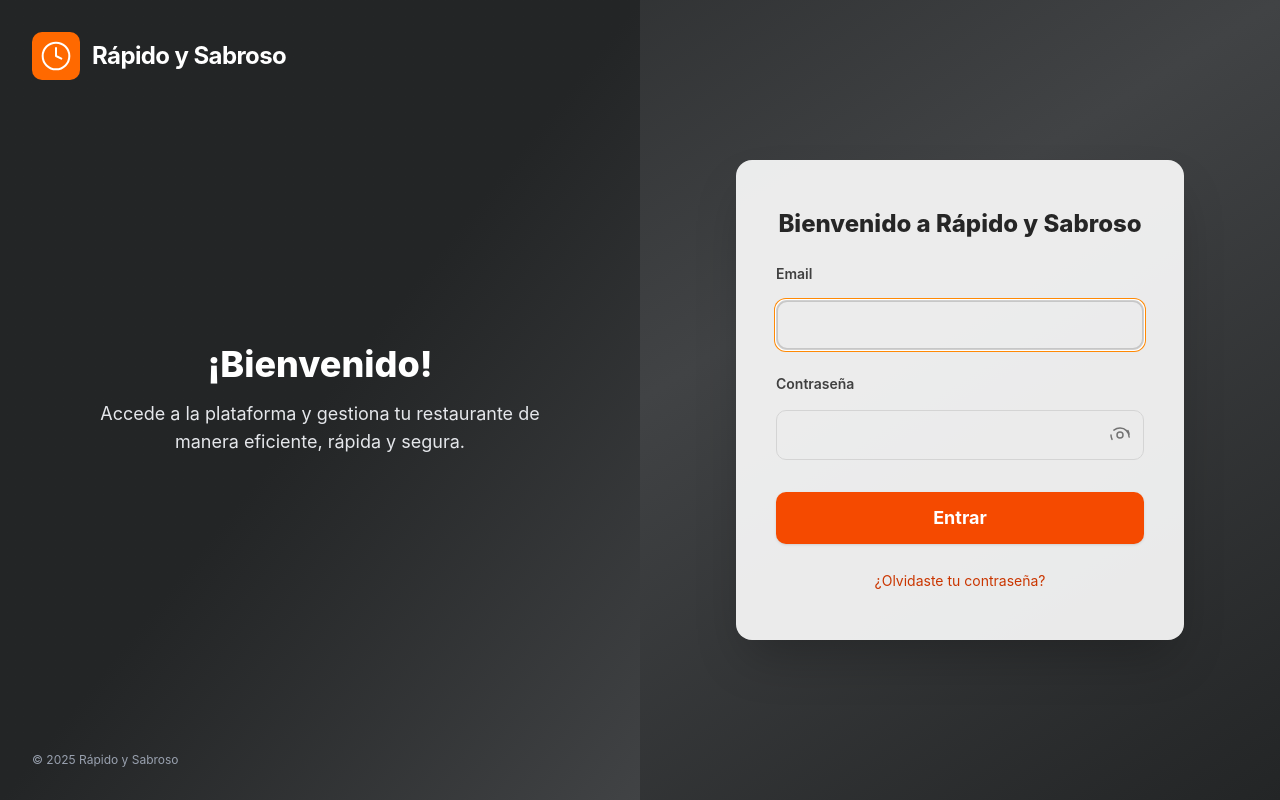
Login › shows error on invalid credentials
The width and height of the screenshot is (1280, 800).
Type "wrong@test.com" into the field labelled "Email" at x=960, y=325, box [776, 300, 1144, 350]
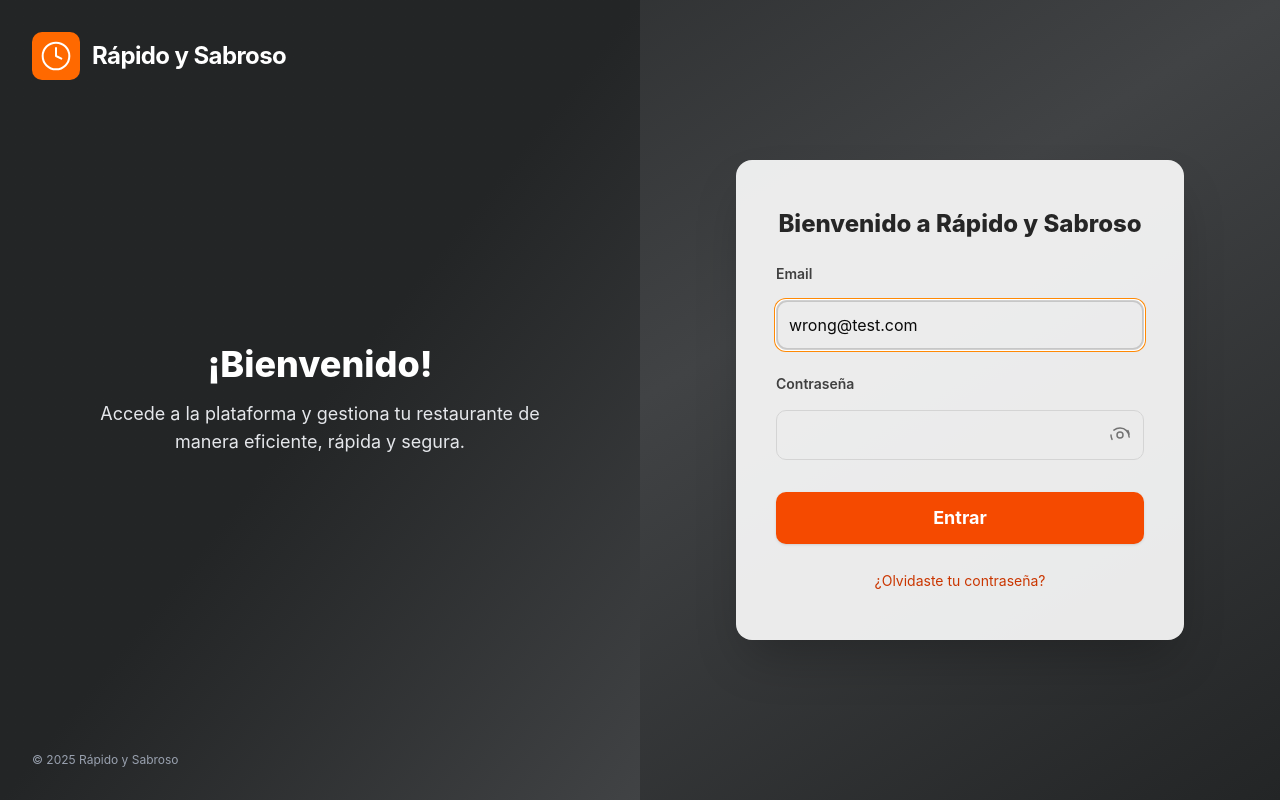
Type "wrongpass" into the password field labelled "Contraseña" at x=960, y=435, box [776, 410, 1144, 460]
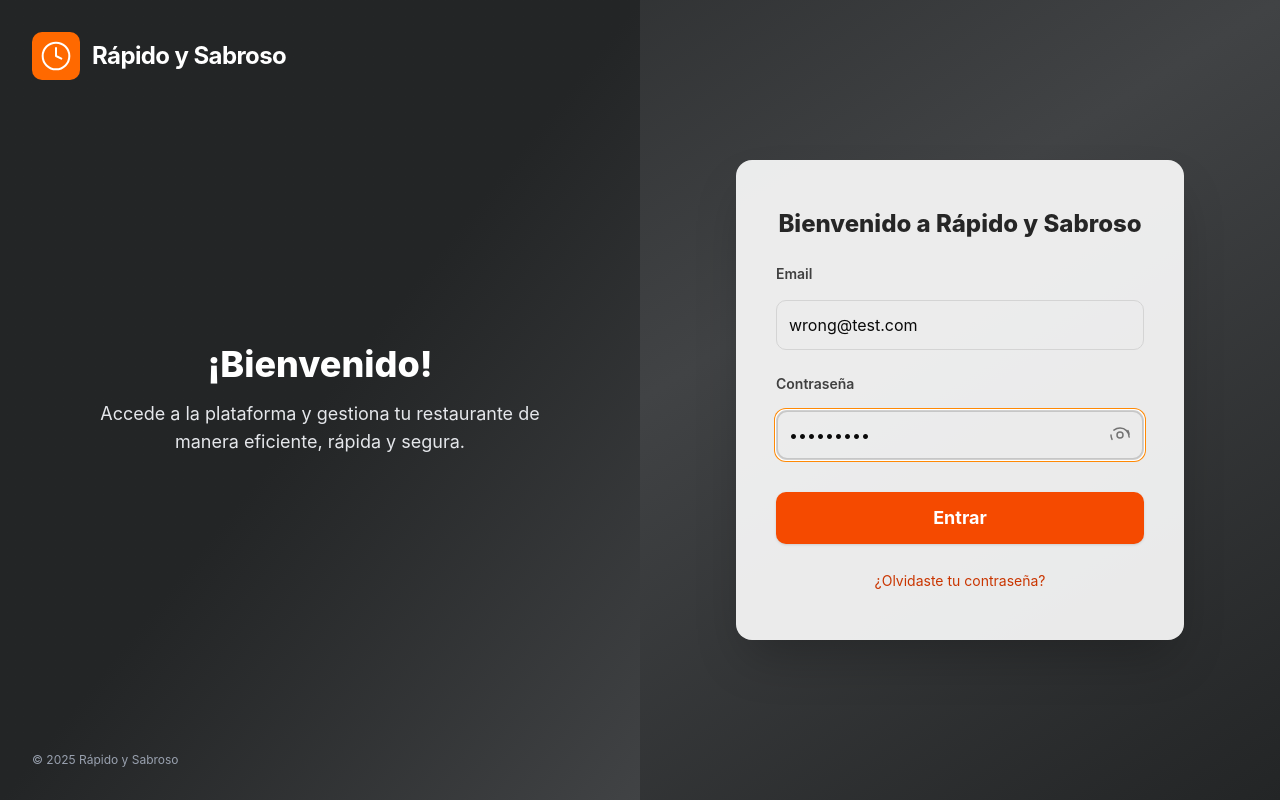
Click the button "Entrar" at x=960, y=518, box [776, 492, 1144, 544]
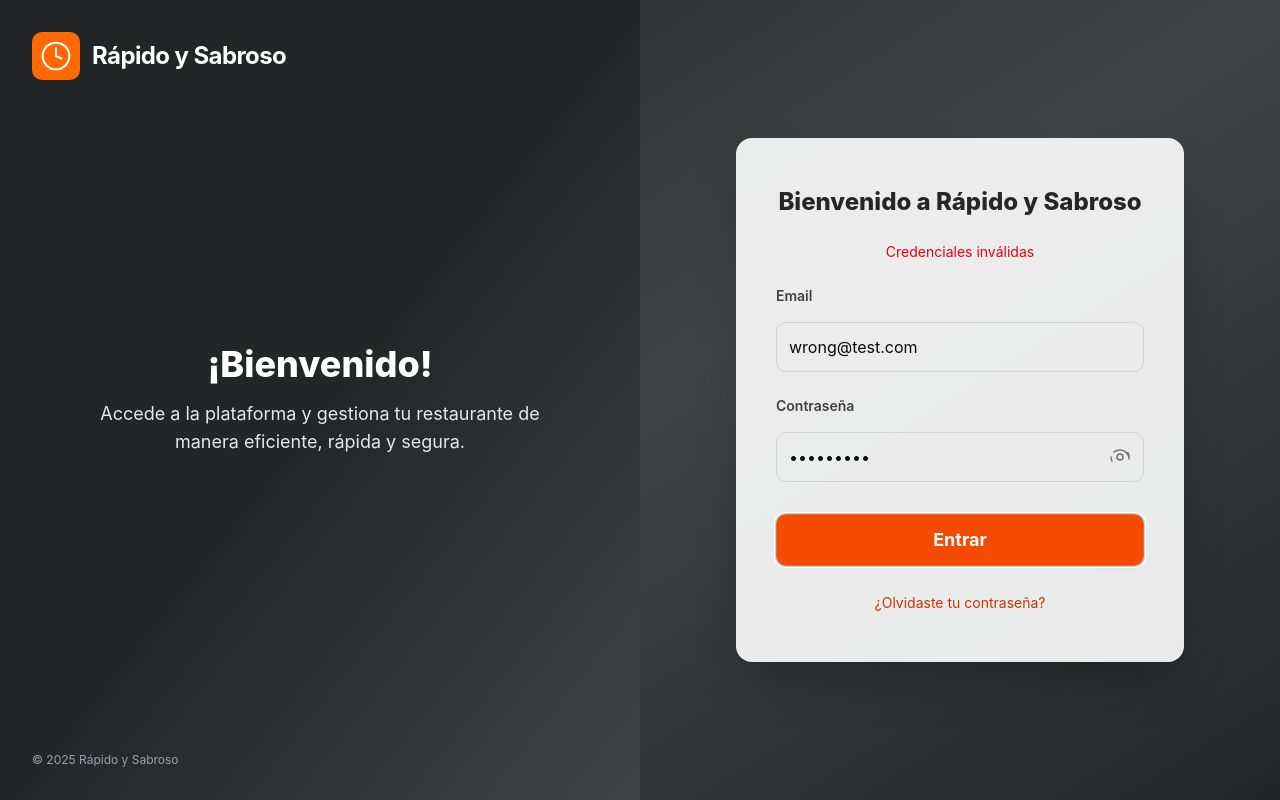
Expected: the text "Credenciales inválidas" is shown, [886, 243, 1034, 260]
